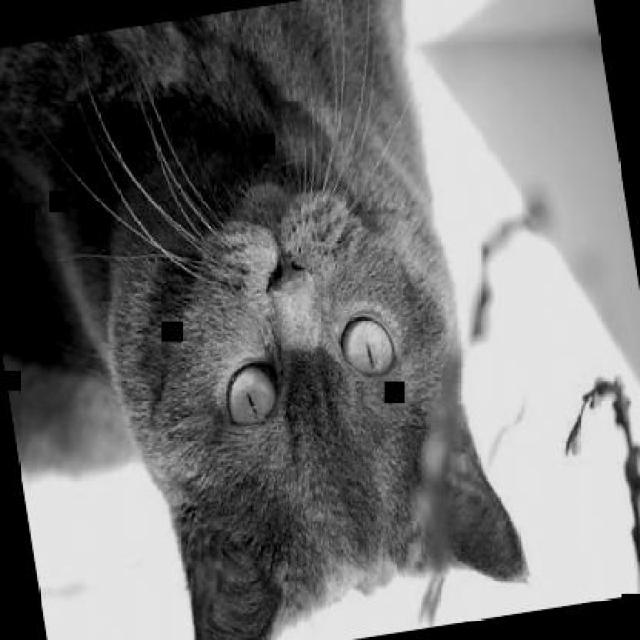cat: (0, 0, 538, 638)
